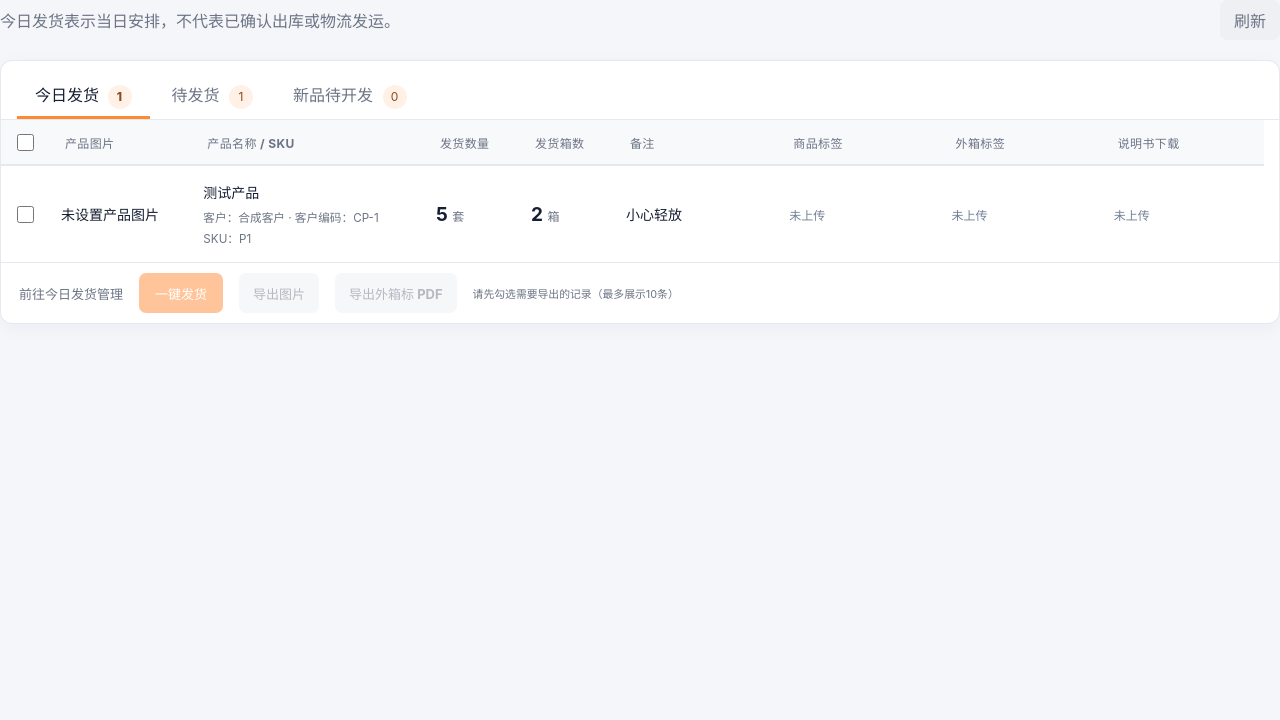
Scenario: shipment confirmation › selects one row, cancels without writes, then confirms and removes the shipped row
Check: the button "一键发货" is disabled, box x1=139 y1=273 x2=223 y2=313
Click the checkbox named "选择发货：测试产品" at (25, 214), box x1=16 y1=206 x2=34 y2=222
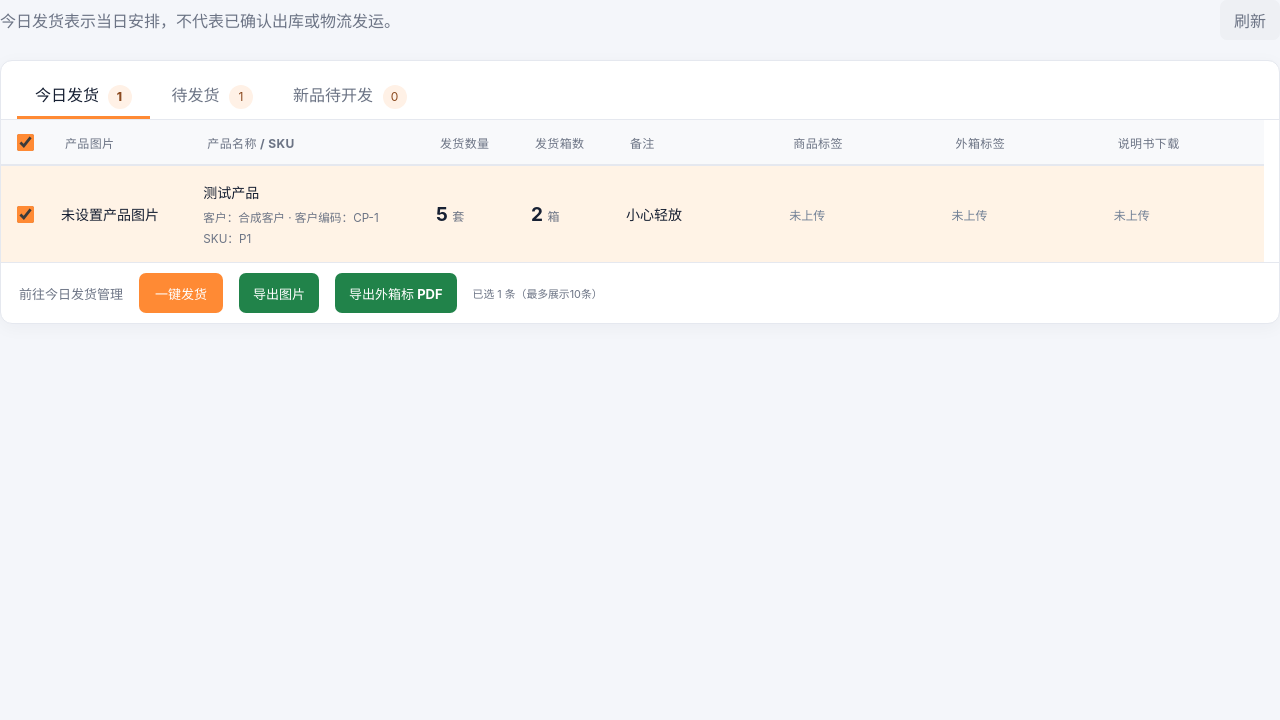
Click the button "一键发货" at (181, 293), box x1=139 y1=273 x2=223 y2=313
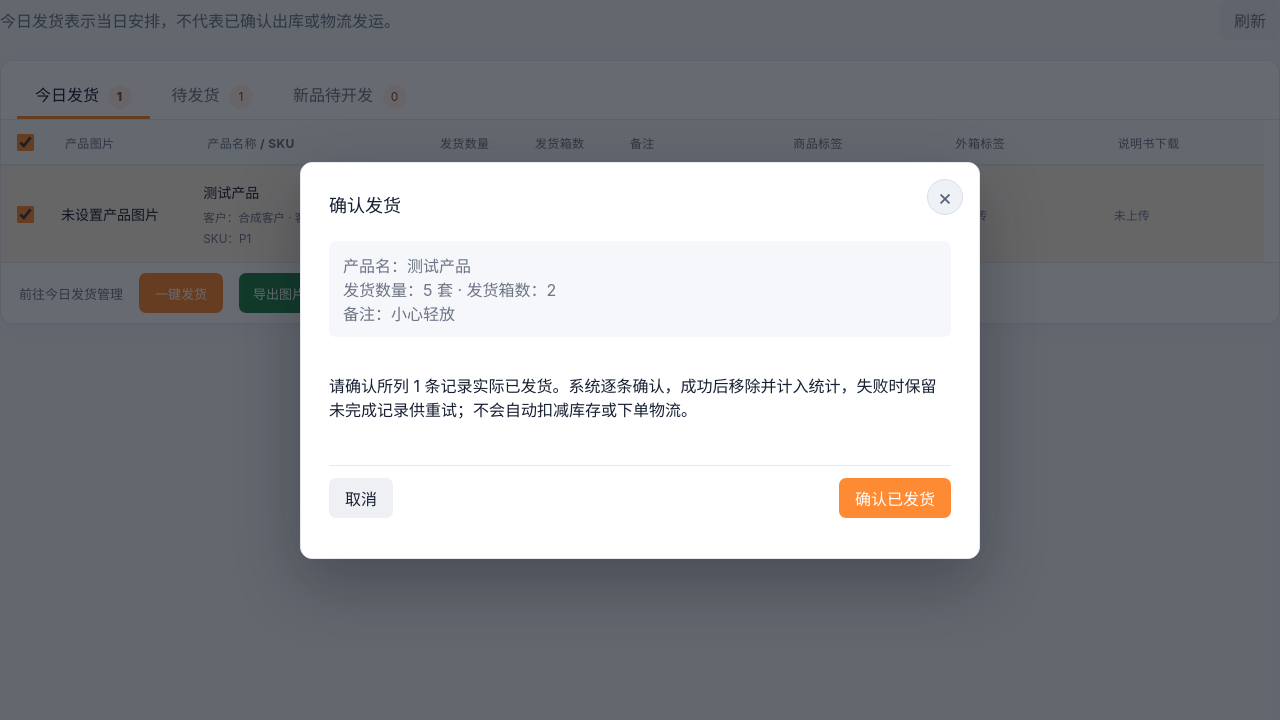
Check: the dialog shows "小心轻放", box x1=343 y1=304 x2=455 y2=324
Click the button named "关闭发货确认" at (945, 196), box x1=927 y1=178 x2=963 y2=214
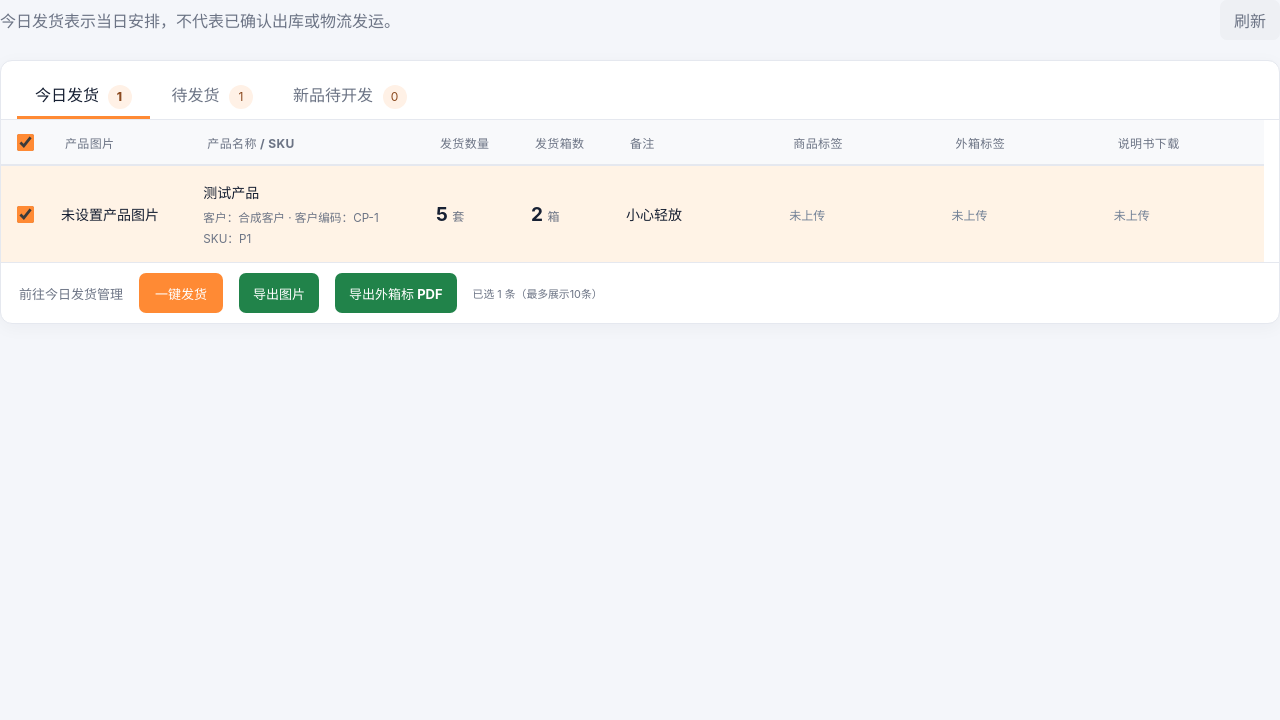
Click the button "一键发货" at (181, 293), box x1=139 y1=273 x2=223 y2=313
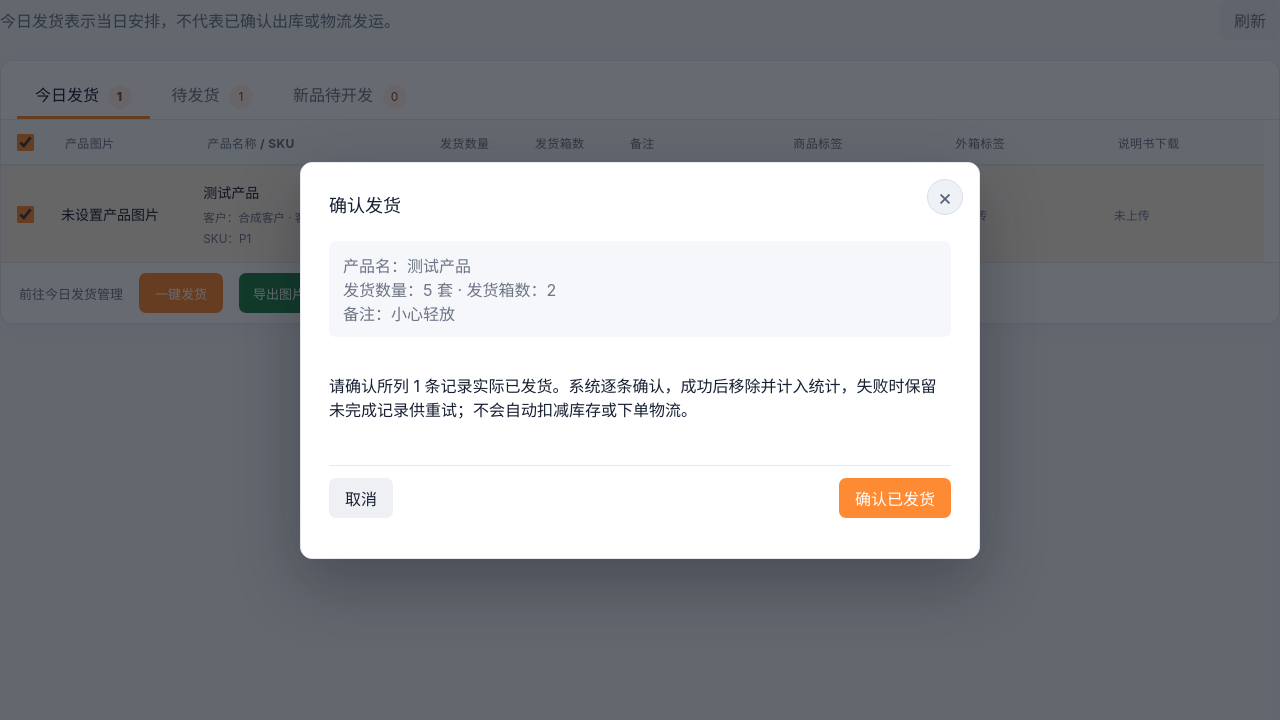
Submit the form, box x1=300 y1=162 x2=980 y2=558
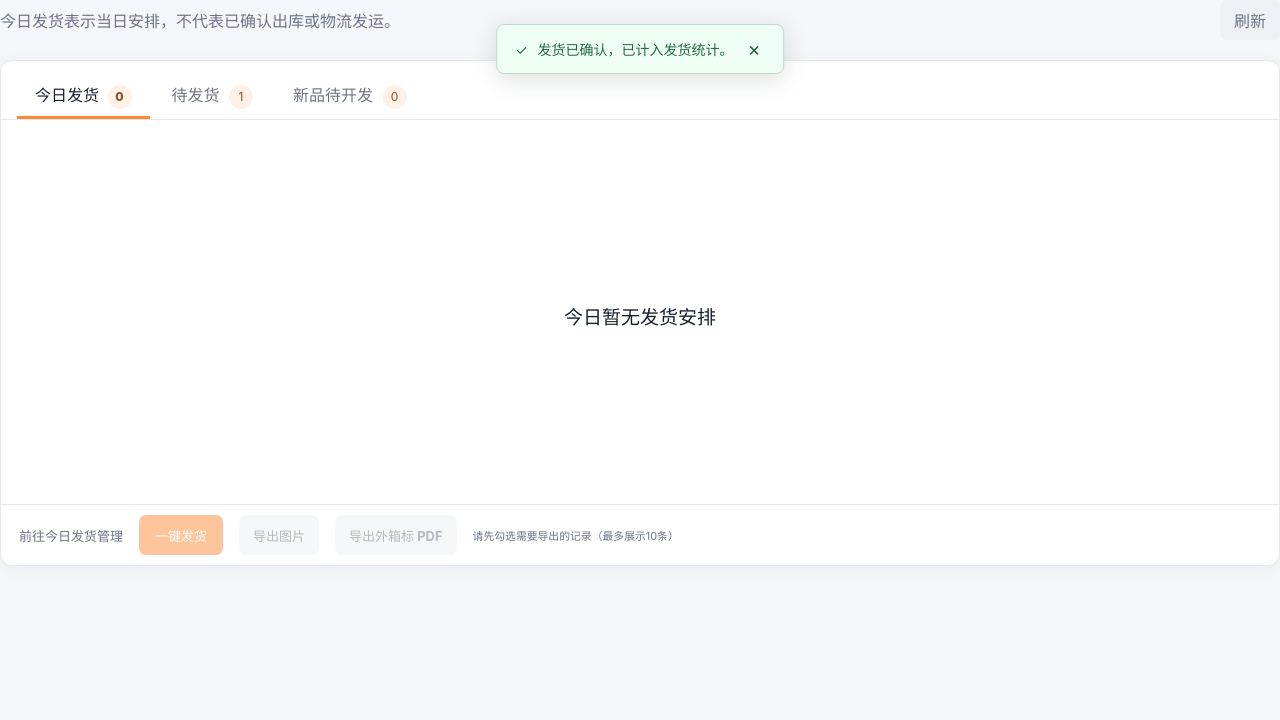
Check: the text "发货已确认，已计入发货统计" is shown, box x1=538 y1=41 x2=734 y2=58
